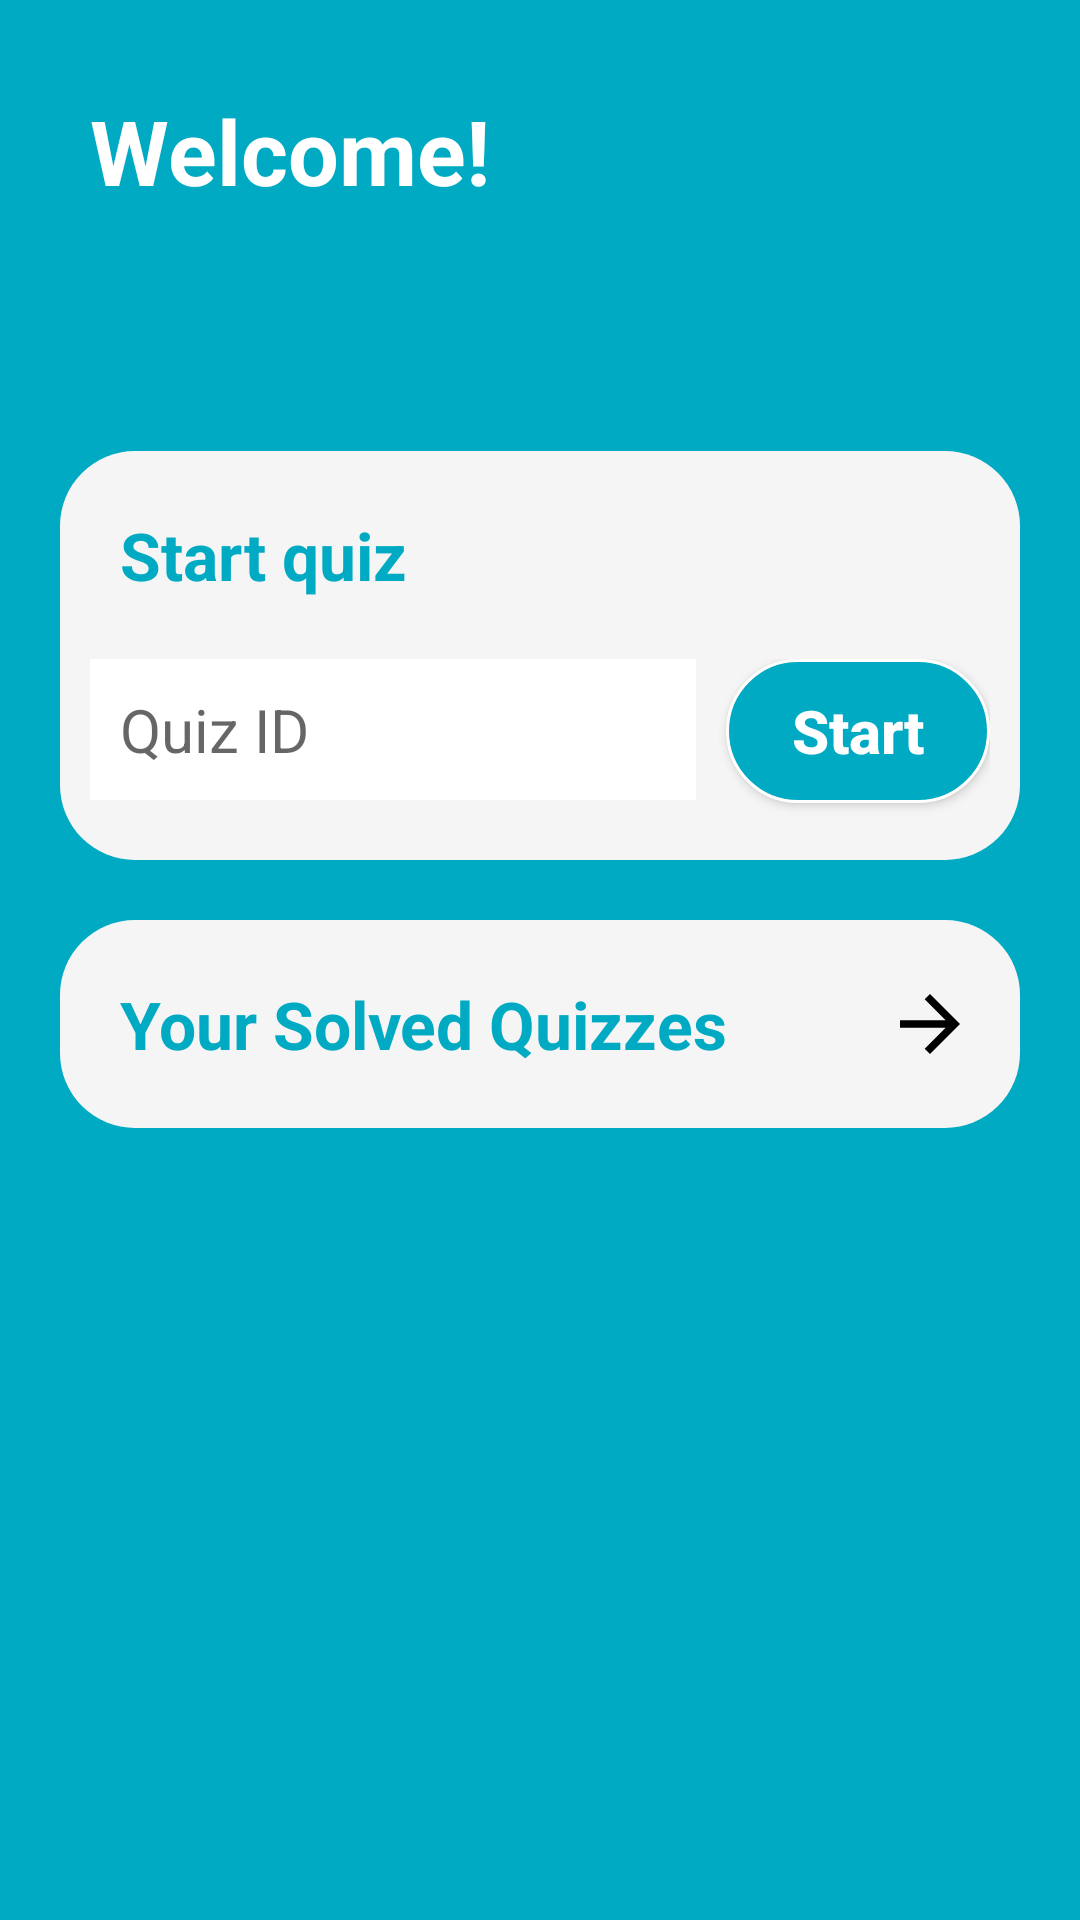

Icon click points for this 1080*1920 phone screenshot, format point (x, y):
arrow: point (930, 1024)
